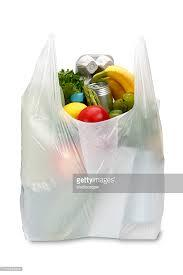Plastic bag: (12, 19, 176, 252)
